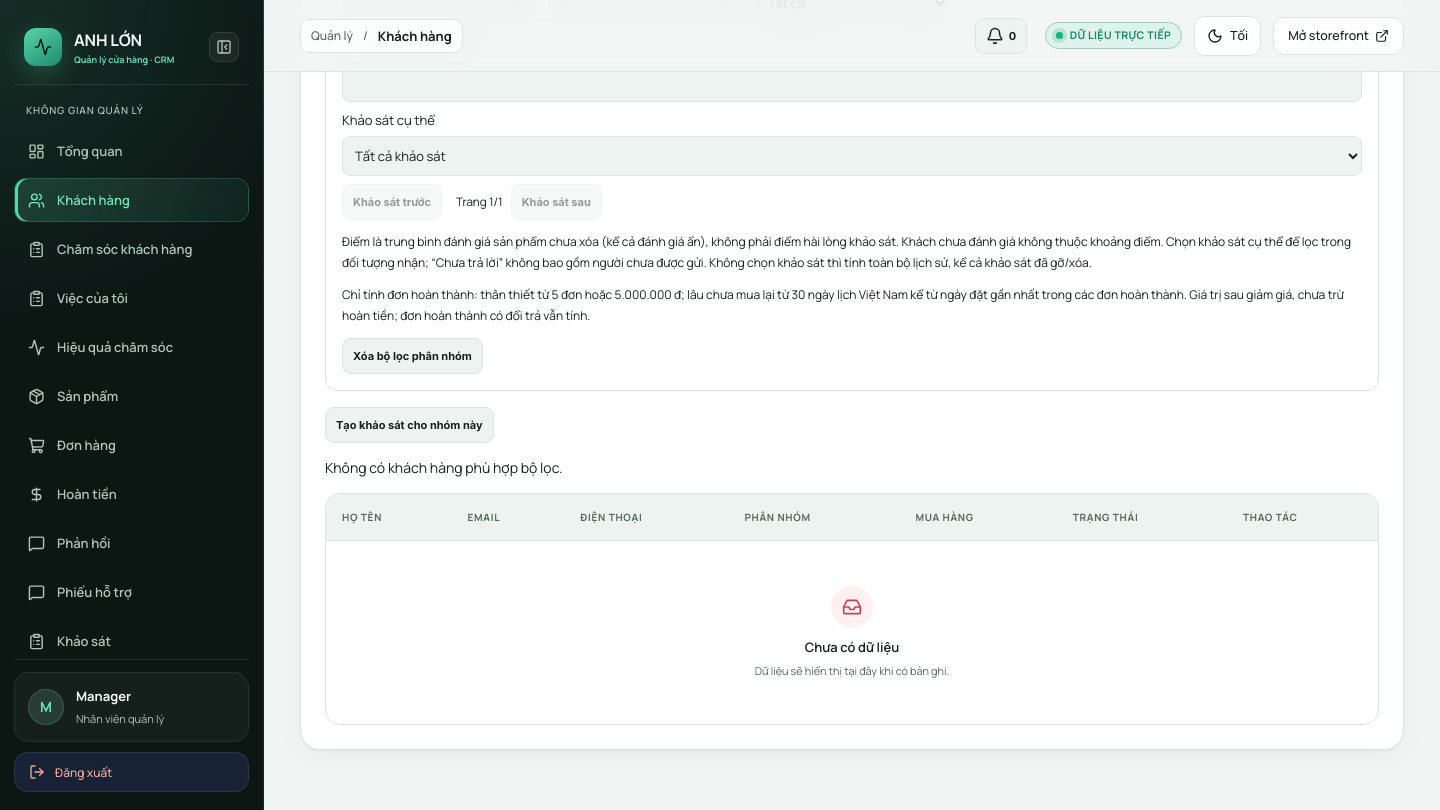
Test: passes all filters but not source pagination or sorting, previews and saves a draft with the actual count
(page scrolled)
Click the button "Tạo khảo sát cho nhóm này": (409, 425) [325, 407, 494, 443]
(page scrolled)
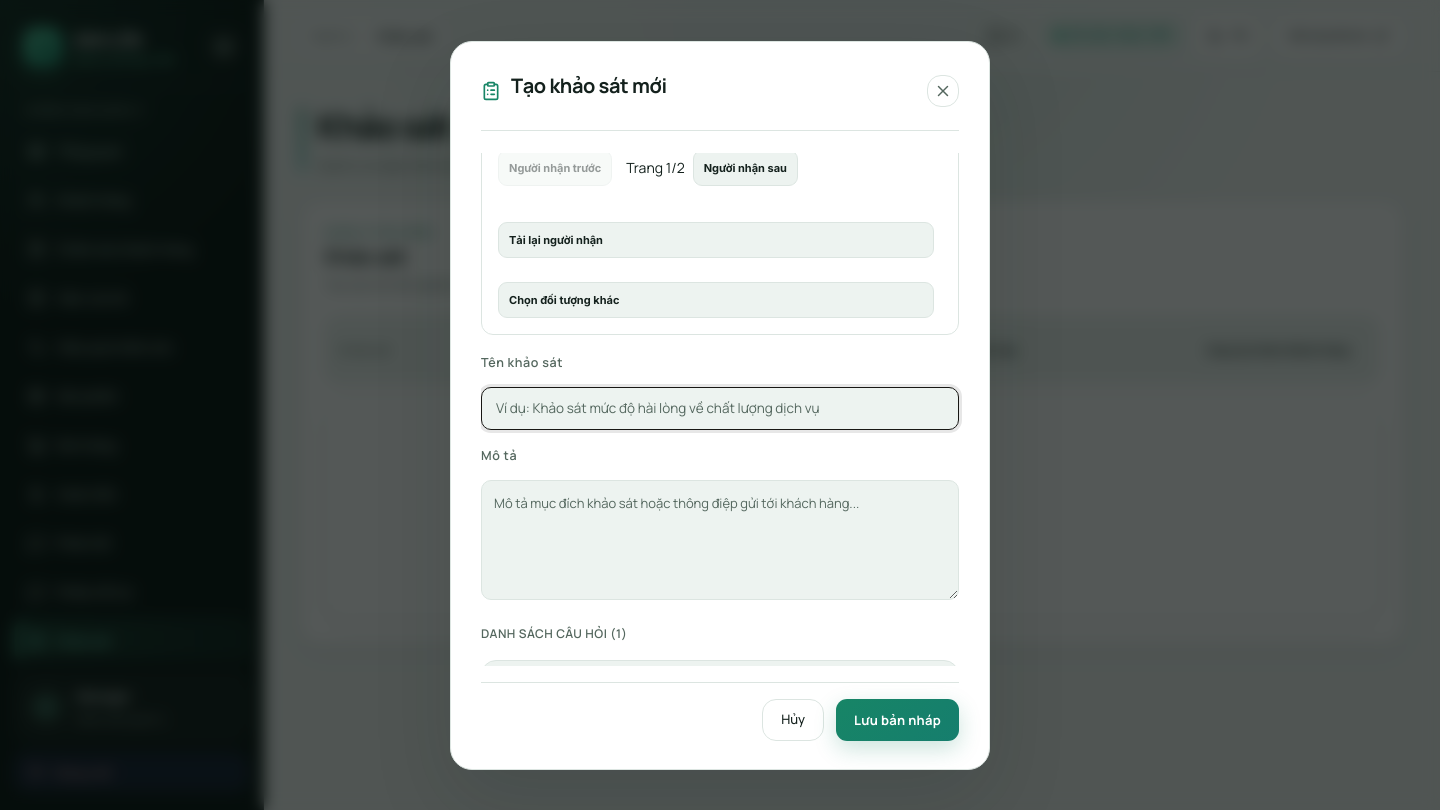
Now the dialog is shown, box [450, 40, 990, 770]
In the field labelled "Tên khảo sát": (720, 409) [481, 387, 959, 430], type "Chăm sóc khách quay lại"
(page scrolled)
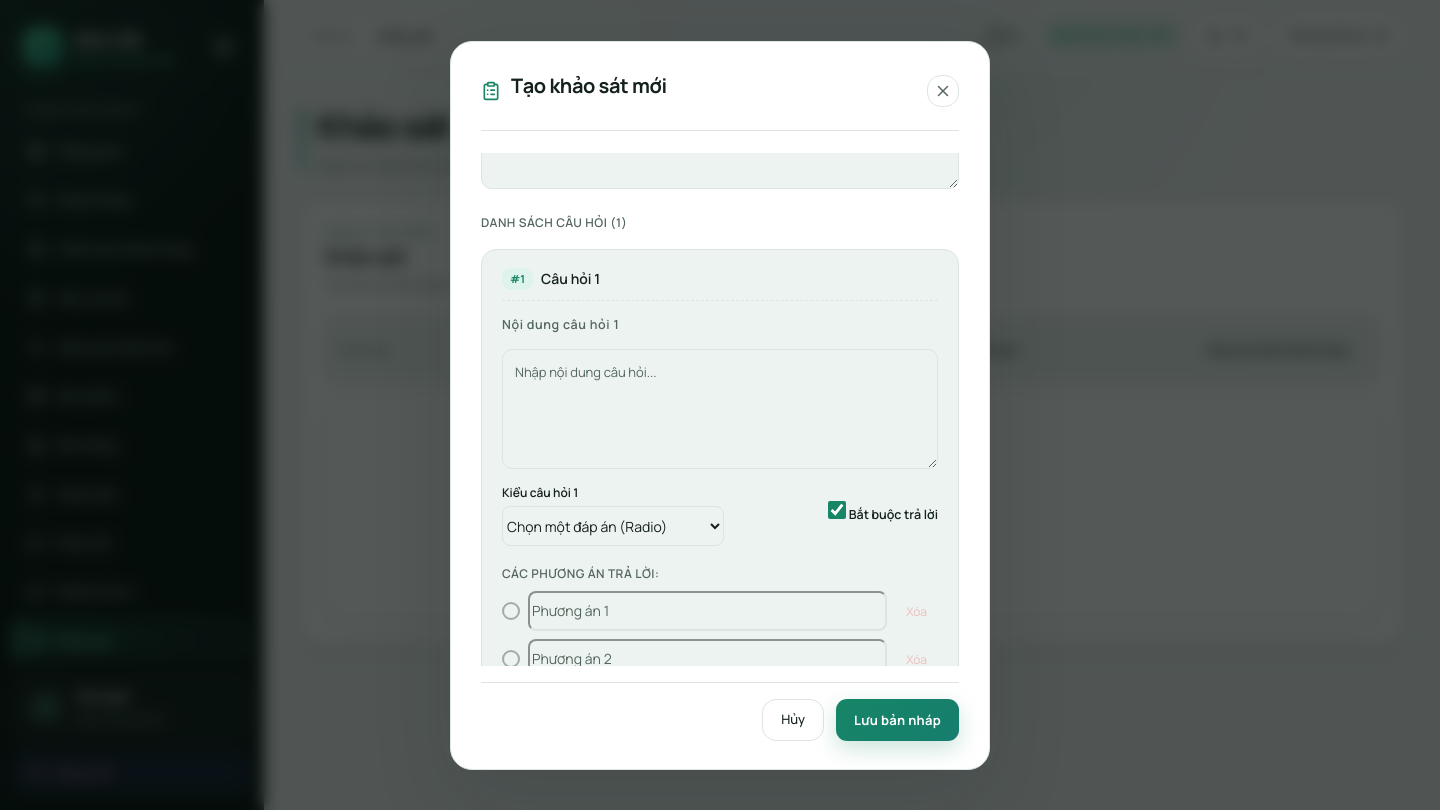
In the text box labelled "Nội dung câu hỏi 1": (720, 409) [502, 349, 938, 469], type "Bạn thích gì?"
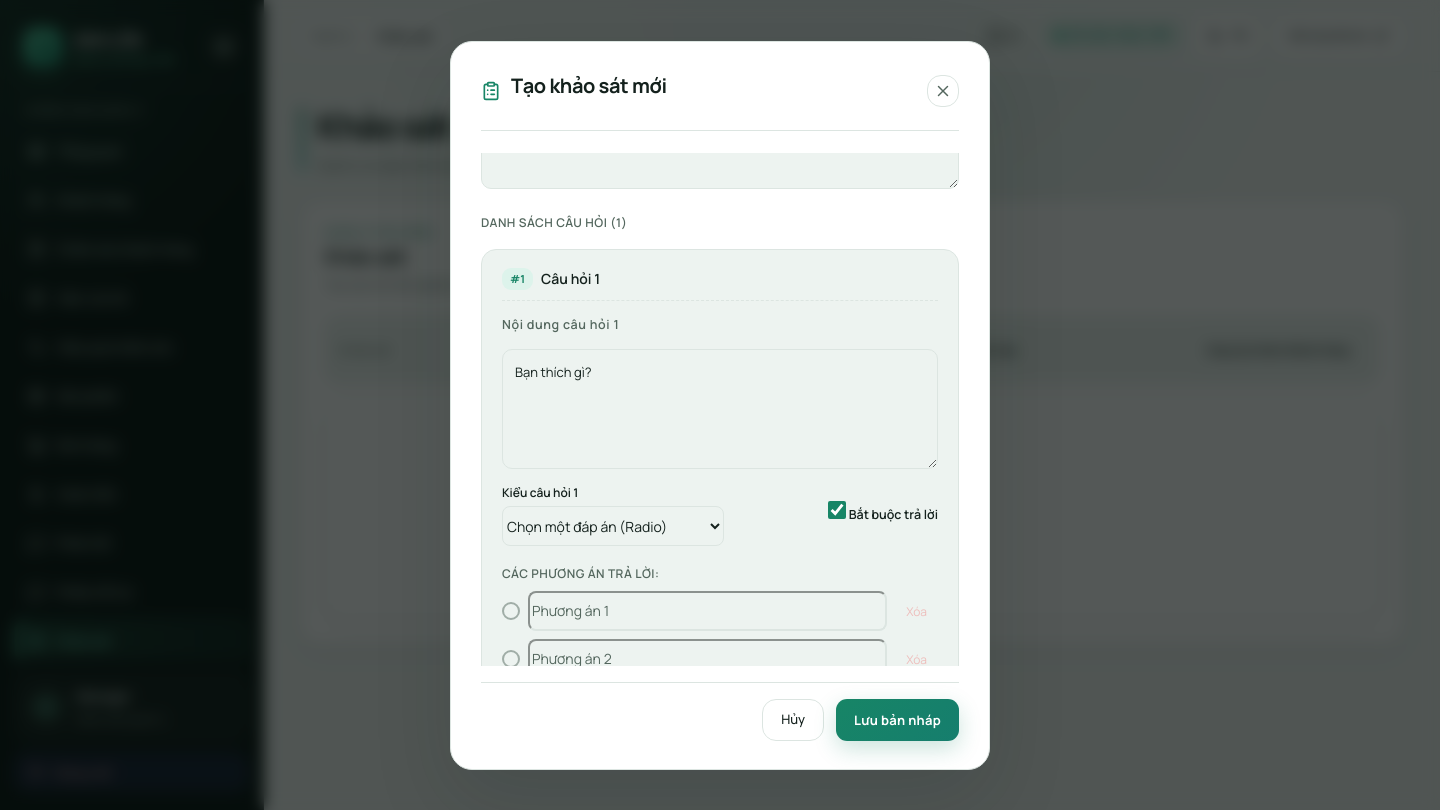
In the field named "Câu 1, phương án 1": (708, 611) [528, 591, 887, 631], type "A"
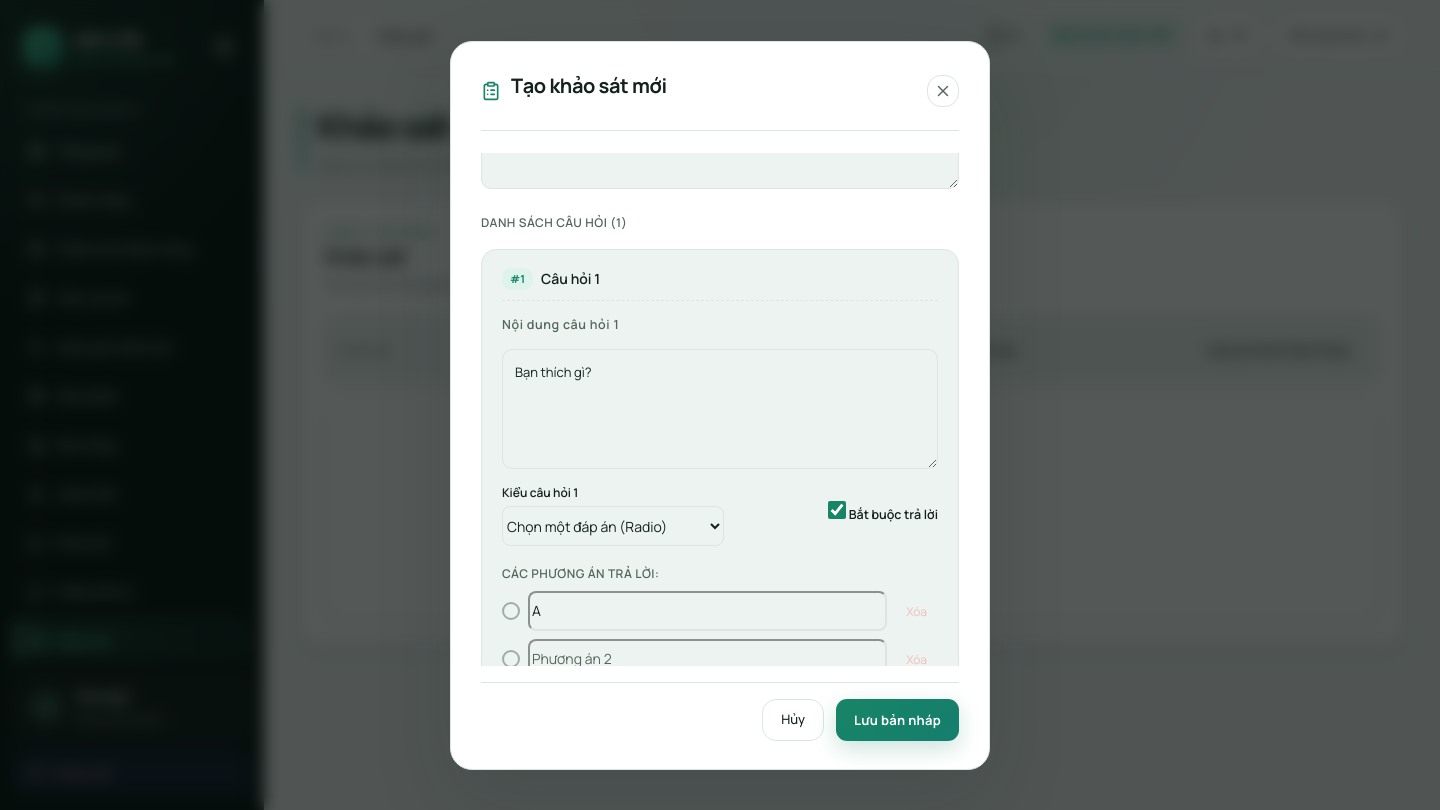
In the field named "Câu 1, phương án 2": (708, 659) [528, 639, 887, 679], type "B"
Wait 10000 ms
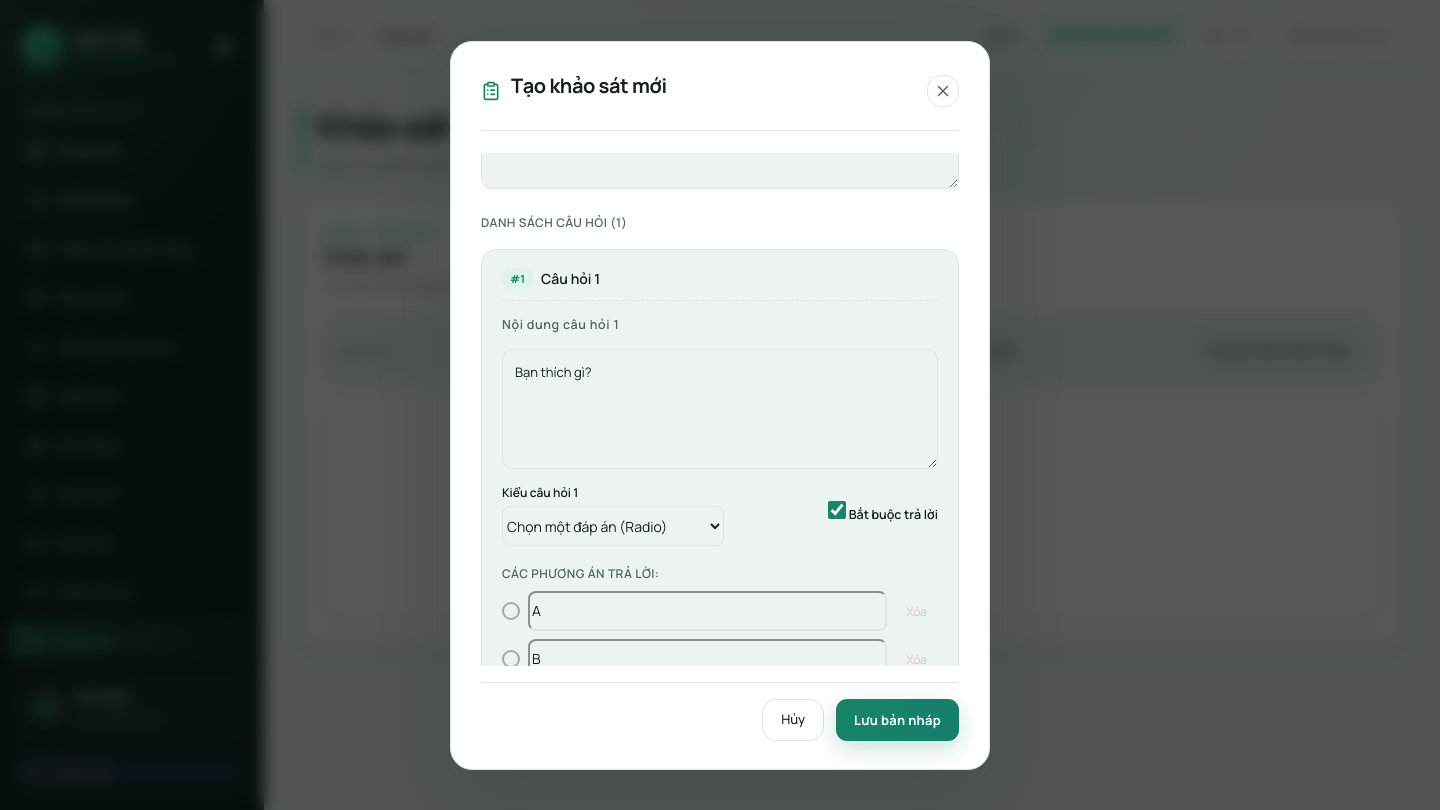
Click the button "Lưu bản nháp": (898, 720) [836, 698, 959, 740]
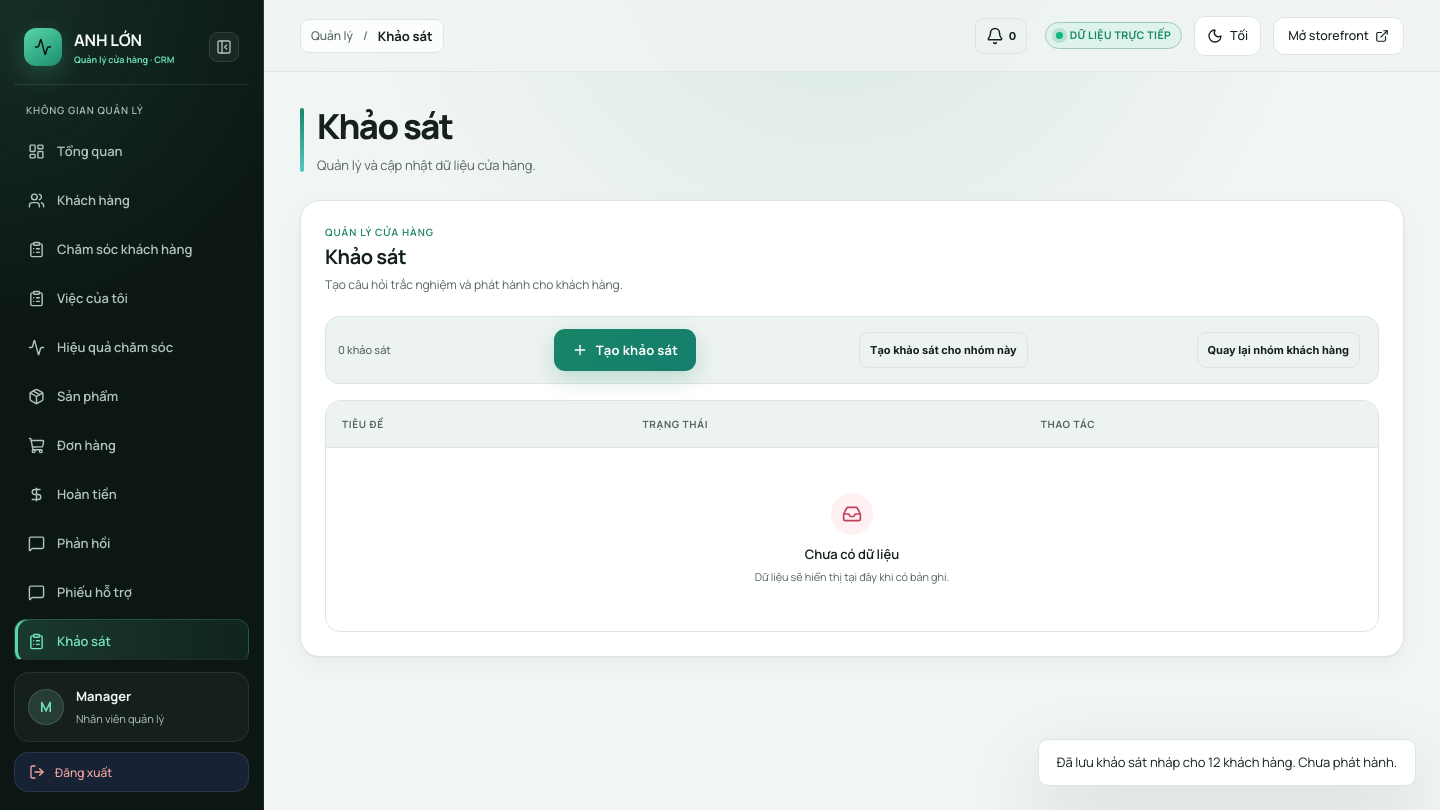
Now the text "Đã lưu khảo sát nháp cho 12 khách hàng. Chưa phát hành." is shown, box [1038, 739, 1416, 786]
